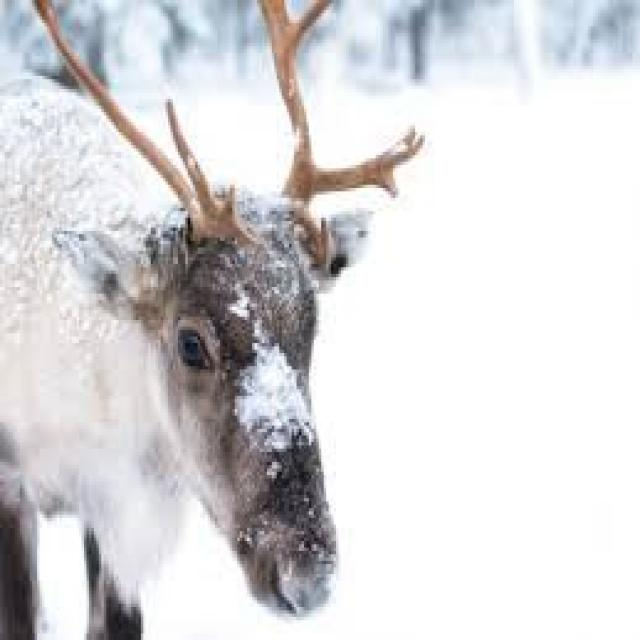Reindeer: (0, 2, 423, 640)
